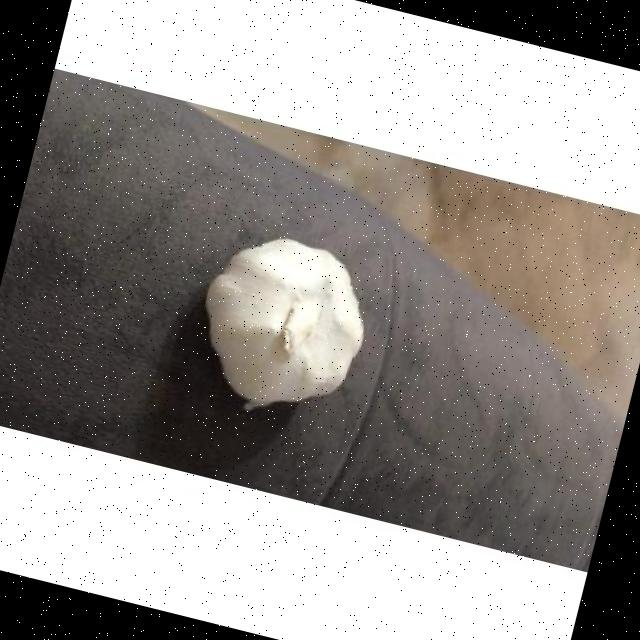garlic: (205, 238, 362, 408)
